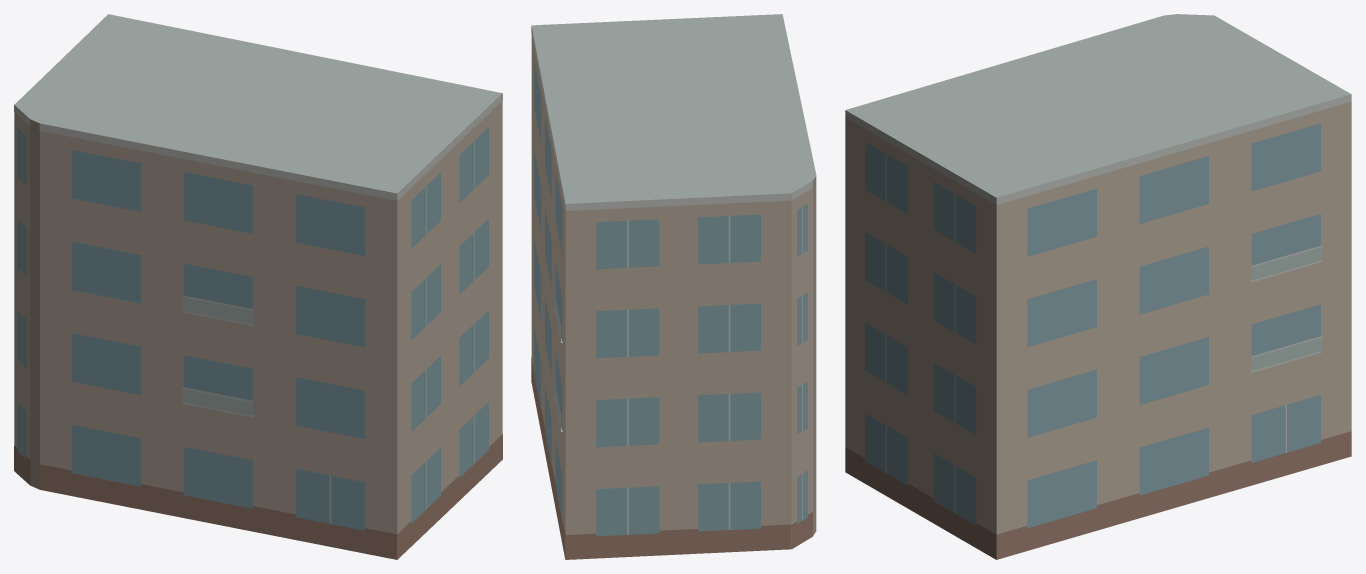
Rendered from survey-upis-32803005.glb.
3 views of the same model, side by side, from view 1: azimuth 30°, elevation 25°; view 2: azimuth 150°, elevation 25°; view 3: azimuth 270°, elevation 25° (orthographic). The views are drawn at different scales.
Visible parts, largest first — view 1: survey-upis-32803005.tmp; view 2: survey-upis-32803005.tmp; view 3: survey-upis-32803005.tmp.
Part boxes in pixels (<box>): survey-upis-32803005.tmp: <box>14,14,502,559</box>; survey-upis-32803005.tmp: <box>531,14,816,559</box>; survey-upis-32803005.tmp: <box>845,14,1351,559</box>.
Size of the model in its own units: 13.18 by 12.1 by 15.34.
